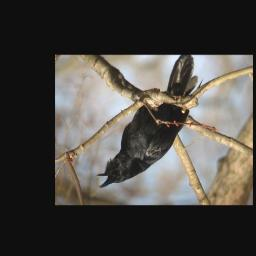Crow: (94, 55, 199, 191)
